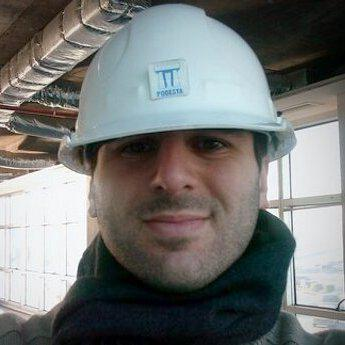helmet: (58, 3, 297, 176)
